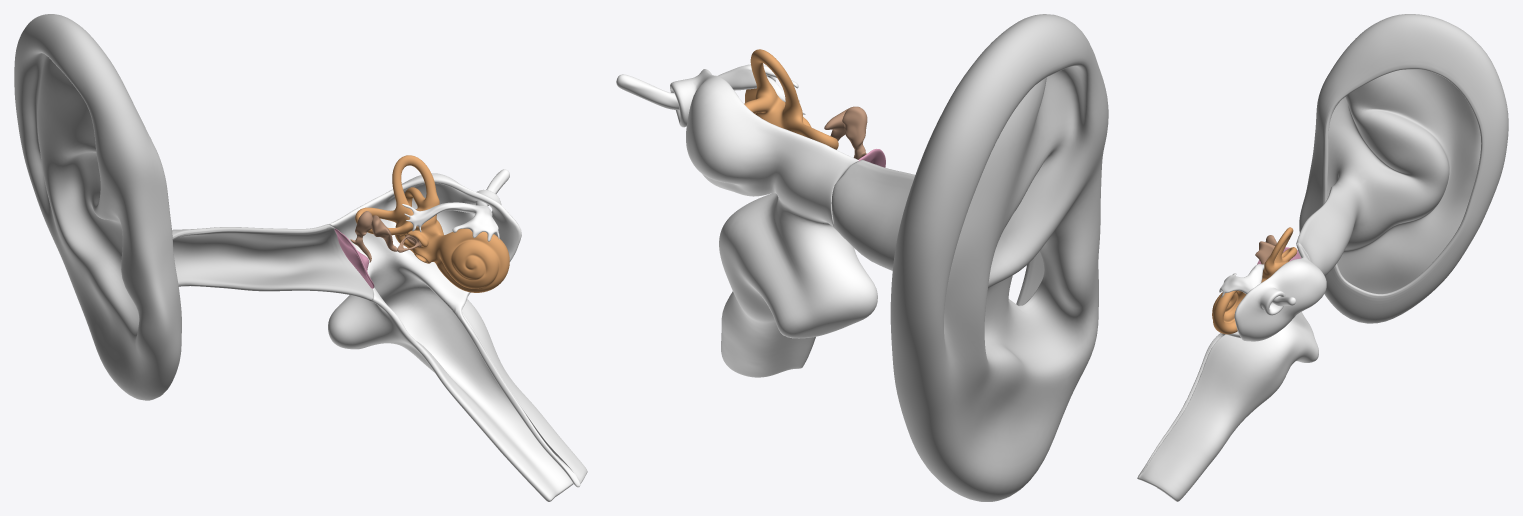
File: telinga.glb
The picture shows the model from 3 angles, left to right: view 1: azimuth 30°, elevation 25°; view 2: azimuth 150°, elevation 25°; view 3: azimuth 270°, elevation 25°; orthographic projection. The views are drawn at different scales.
Visible parts, largest first — view 1: _gltfNode_14, _gltfNode_12, _gltfNode_0, _gltfNode_2, _gltfNode_10; view 2: _gltfNode_14, _gltfNode_12, _gltfNode_0, _gltfNode_2, _gltfNode_6; view 3: _gltfNode_14, _gltfNode_12, _gltfNode_0, _gltfNode_2.
Part boxes in pixels (x1=…): _gltfNode_14: x1=14, y1=14, x2=373, y2=400; _gltfNode_12: x1=328, y1=173, x2=587, y2=501; _gltfNode_0: x1=355, y1=155, x2=509, y2=292; _gltfNode_2: x1=402, y1=169, x2=509, y2=241; _gltfNode_10: x1=334, y1=228, x2=374, y2=288; _gltfNode_14: x1=829, y1=14, x2=1108, y2=501; _gltfNode_12: x1=670, y1=69, x2=877, y2=377; _gltfNode_0: x1=744, y1=49, x2=838, y2=149; _gltfNode_2: x1=616, y1=64, x2=805, y2=114; _gltfNode_6: x1=842, y1=106, x2=867, y2=159; _gltfNode_14: x1=1296, y1=14, x2=1508, y2=323; _gltfNode_12: x1=1137, y1=244, x2=1326, y2=501; _gltfNode_0: x1=1212, y1=227, x2=1297, y2=334; _gltfNode_2: x1=1219, y1=264, x2=1295, y2=306.
Size of the model in its own units: 17.25 by 18.97 by 18.15.
